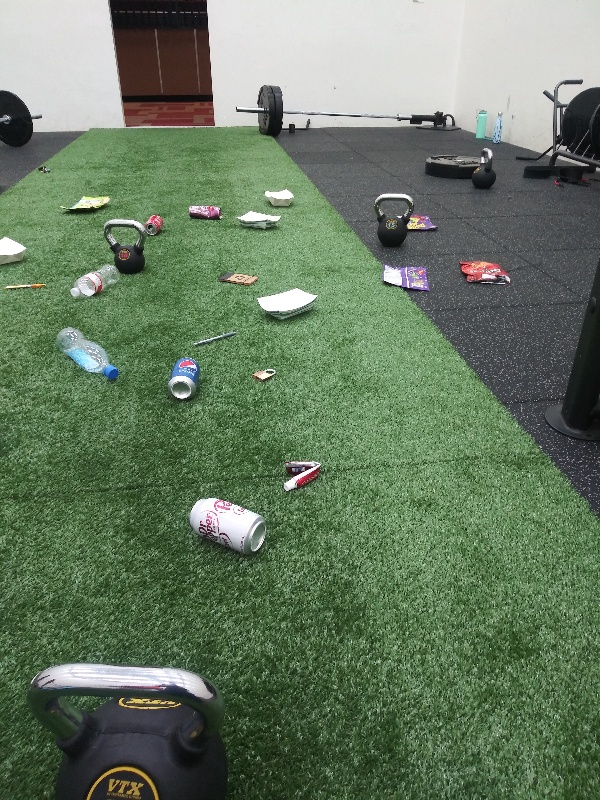bag: (453, 253, 514, 291), (375, 256, 432, 294), (58, 192, 114, 218), (401, 210, 440, 231)
bottle: (53, 325, 123, 385), (68, 261, 126, 301)
can: (180, 492, 269, 556), (164, 353, 208, 403), (182, 201, 225, 222), (144, 211, 162, 236)
plate: (255, 286, 320, 321), (234, 206, 285, 234), (1, 230, 30, 271), (261, 187, 296, 210)
